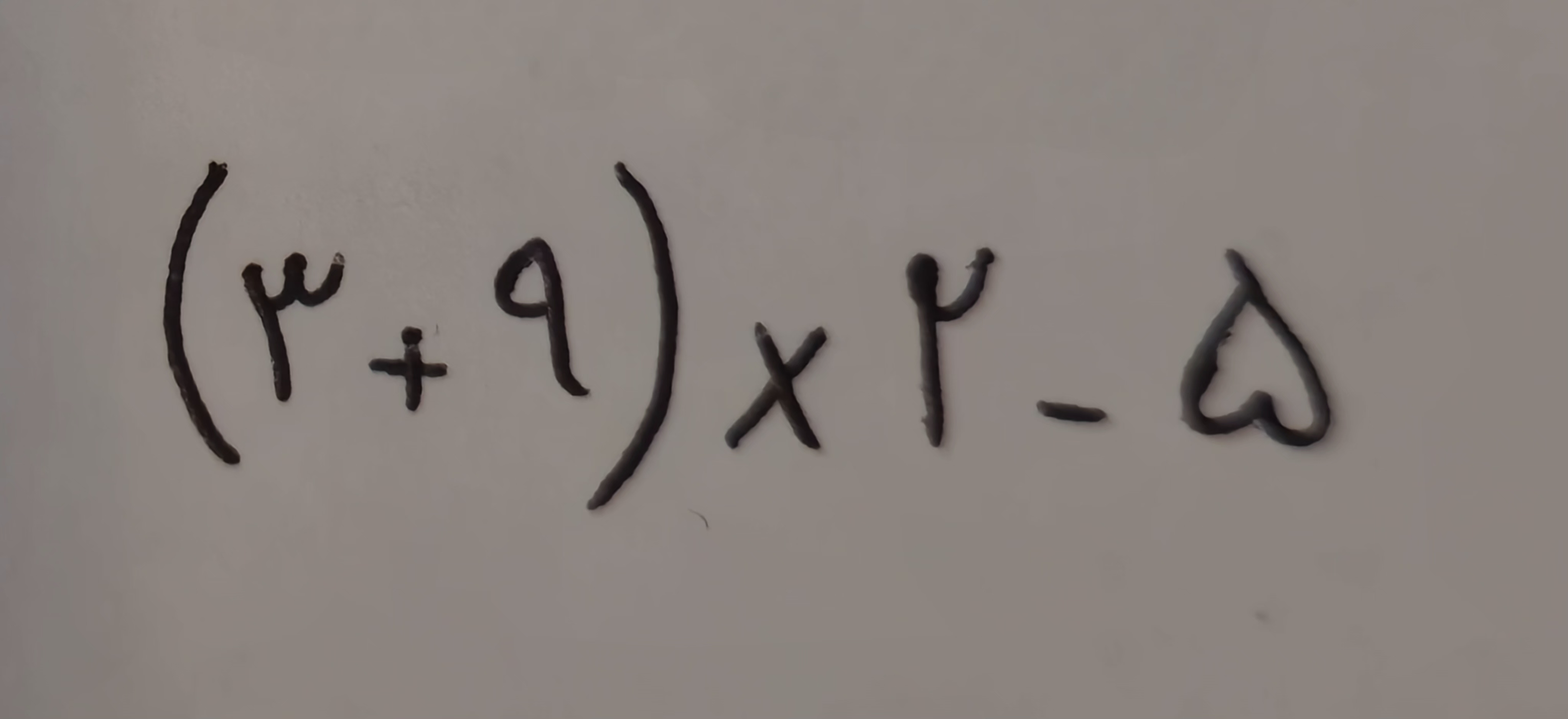character: (586, 161, 678, 511), (1179, 249, 1333, 447), (162, 161, 241, 465), (906, 248, 997, 449), (241, 251, 345, 402), (494, 238, 590, 397), (725, 320, 828, 450), (369, 326, 449, 412), (1035, 398, 1109, 423)
